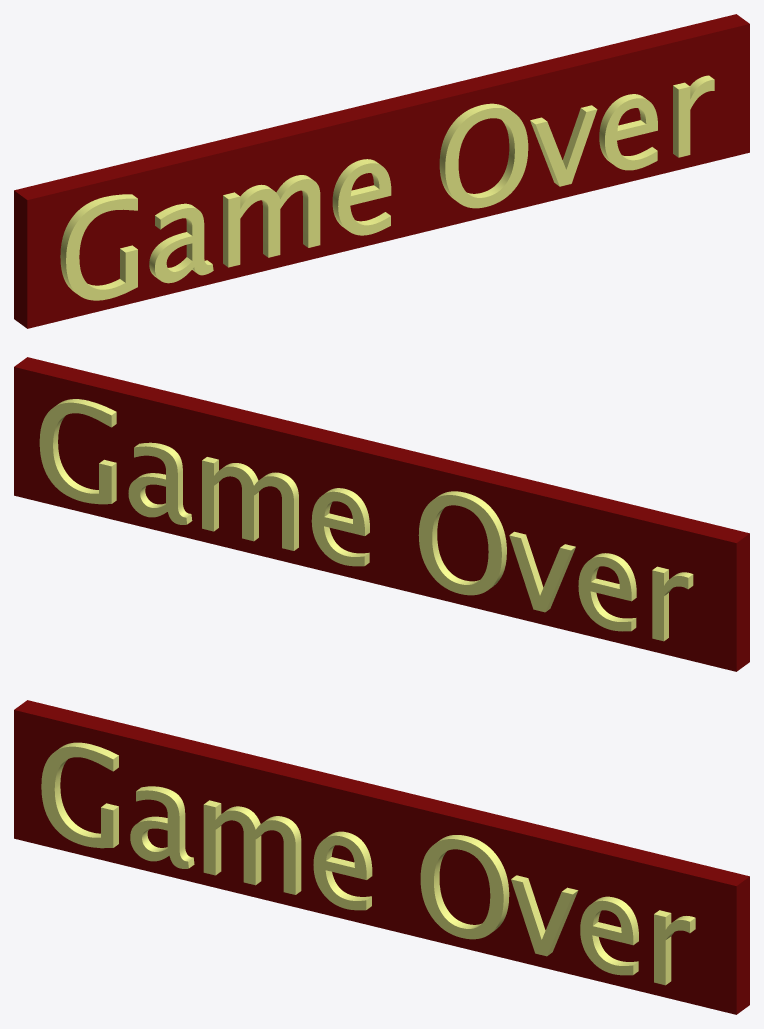
File: GameOverText.fbx
3 renders of one model, top to bottom at view 1: azimuth 30°, elevation 25°; view 2: azimuth 150°, elevation 25°; view 3: azimuth 330°, elevation 25°, orthographic.
Parts seen in each view (by area): view 1: Box, Extrude; view 2: Box, Extrude.2; view 3: Box, Extrude.
Part boxes in pixels (bbox=[...]): Box: bbox=[14, 14, 749, 328]; Extrude: bbox=[60, 75, 714, 300]; Box: bbox=[14, 357, 749, 671]; Extrude.2: bbox=[39, 399, 693, 641]; Box: bbox=[14, 700, 749, 1014]; Extrude: bbox=[41, 742, 695, 985].
Size of the model in its own units: 587 by 100 by 33.93.
